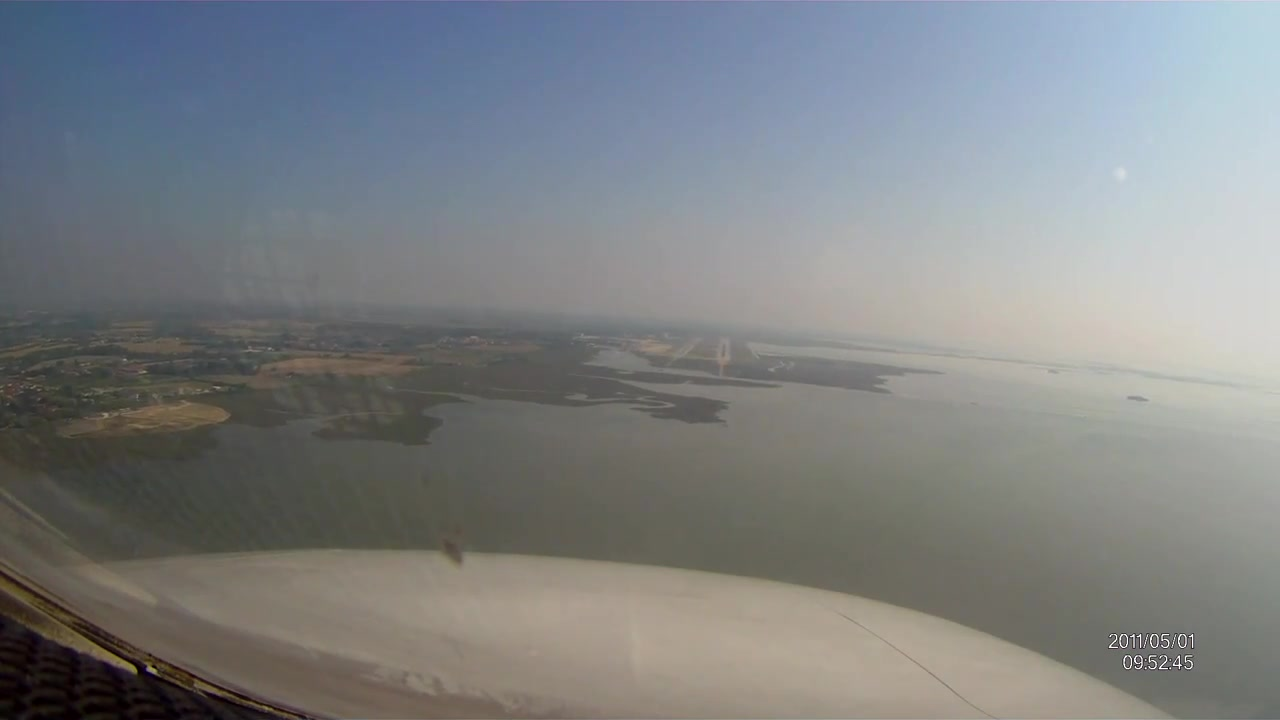runway: (666, 336, 705, 361), (715, 337, 734, 365)
